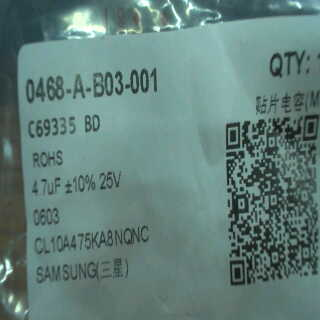4.7uF: (27, 170, 65, 200)
